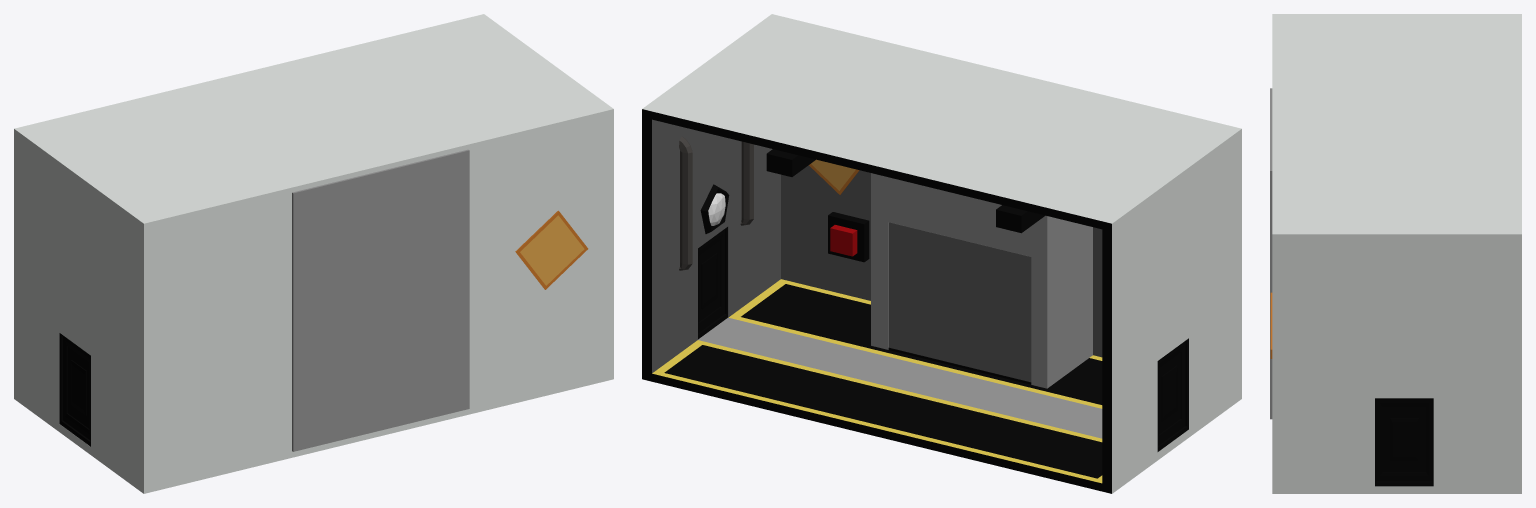
File: EleRoom.fbx
3 renders of one model, left to right at view 1: azimuth 30°, elevation 25°; view 2: azimuth 150°, elevation 25°; view 3: azimuth 270°, elevation 25°, orthographic. The views are drawn at different scales.
Visible parts, largest first — view 1: BaseRoom, EleBase, Hazard, DoorRight; view 2: BaseRoom, EleBase, EleDoor, DoorRight, DoorLeft, Button, Pipe, Pipe.003, Light, Light.001, Hazard; view 3: BaseRoom, DoorLeft, EleBase.
Boxes of the visible parts, <box> form: BaseRoom: <box>14,14,613,493</box>; EleBase: <box>292,149,469,451</box>; Hazard: <box>515,210,588,289</box>; DoorRight: <box>59,333,90,446</box>; BaseRoom: <box>642,14,1241,493</box>; EleBase: <box>871,173,1092,388</box>; EleDoor: <box>889,222,1031,382</box>; DoorRight: <box>1157,338,1188,451</box>; DoorLeft: <box>698,227,727,339</box>; Button: <box>828,212,869,262</box>; Pipe: <box>679,136,692,270</box>; Pipe.003: <box>740,141,753,225</box>; Light: <box>766,149,815,176</box>; Light.001: <box>996,205,1044,233</box>; Hazard: <box>809,159,859,194</box>; BaseRoom: <box>1272,14,1521,493</box>; DoorLeft: <box>1375,398,1433,486</box>; EleBase: <box>1270,88,1272,419</box>.
Bounding box in the file's own units: 1806 × 992 × 872.
